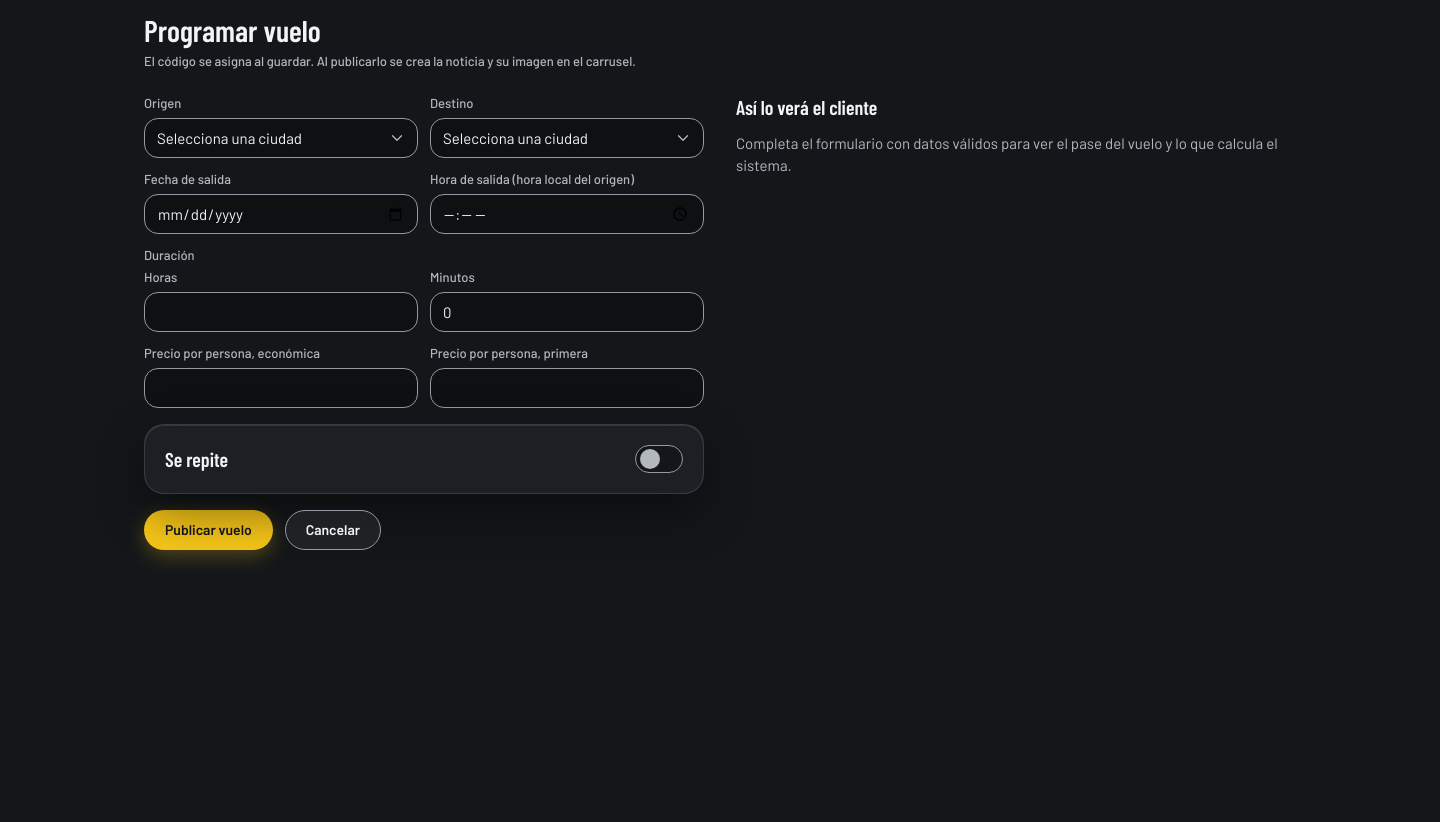
Scenario: S08 · Vuelos recurrentes (HU-14) › «Se repite» cambia la fecha de salida por los días y el periodo
The width and height of the screenshot is (1440, 822).
Type "2026-10-05" into the date field labelled "Fecha de salida" at (281, 214), box [144,194,418,234]
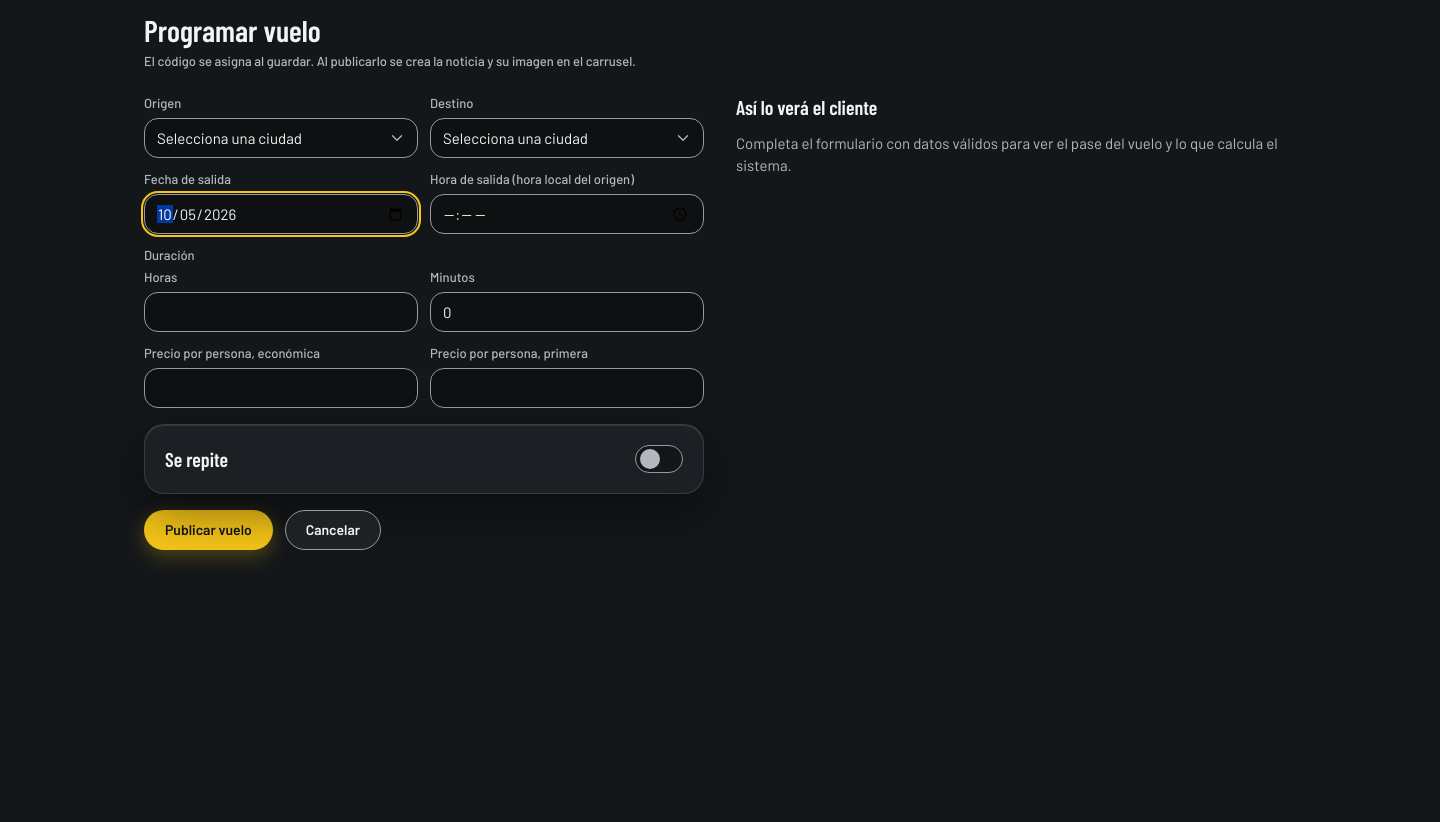
Expected: the field labelled "Desde" is not shown
Click the switch named "Se repite" at (659, 459), box [635,445,683,473]
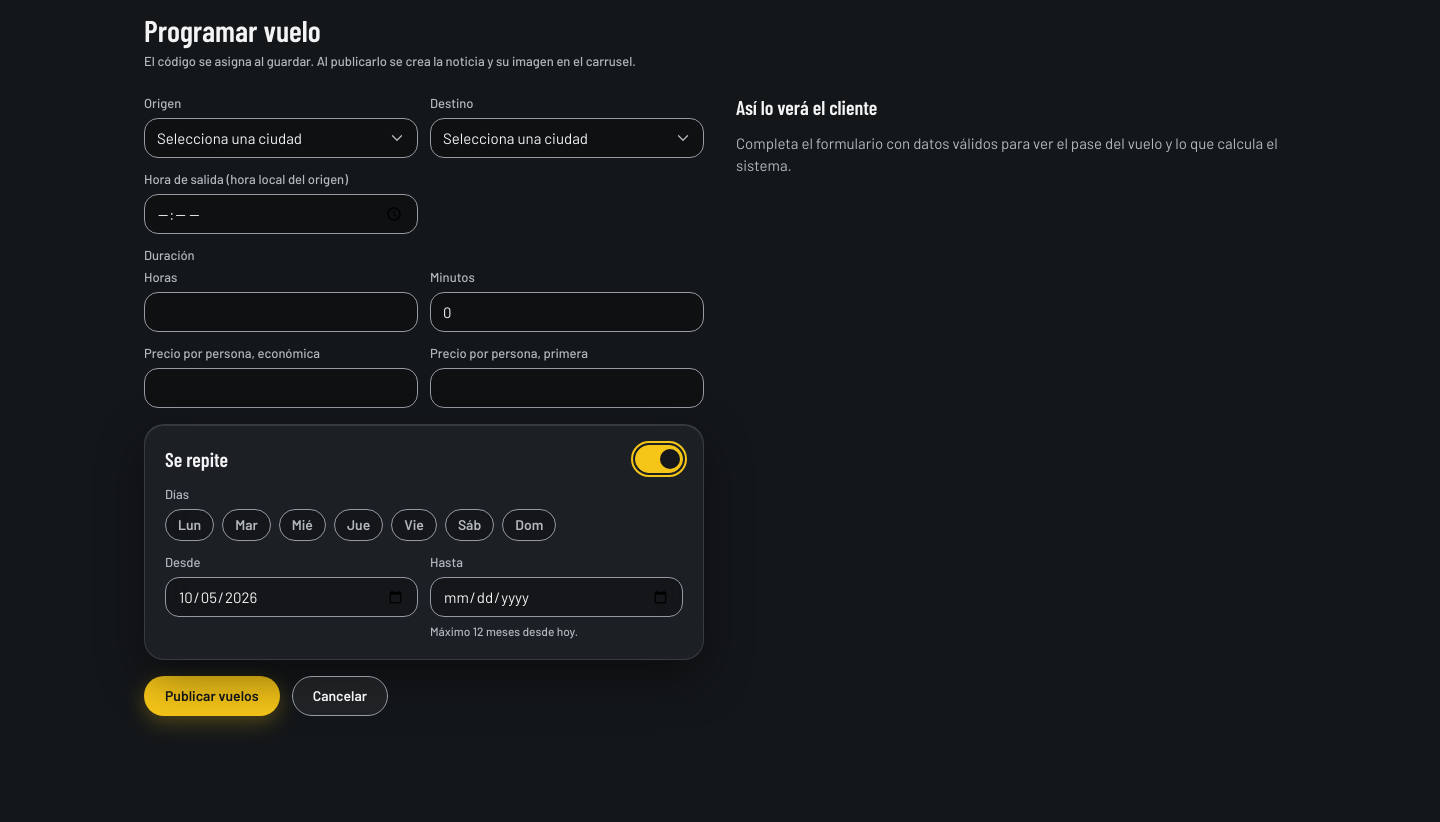
Expected: the label labelled "Fecha de salida" is gone
Expected: the date field labelled "Desde" holds "2026-10-05", [165,577,418,617]
Expected: the date field labelled "Hasta" is shown, [430,577,683,617]
